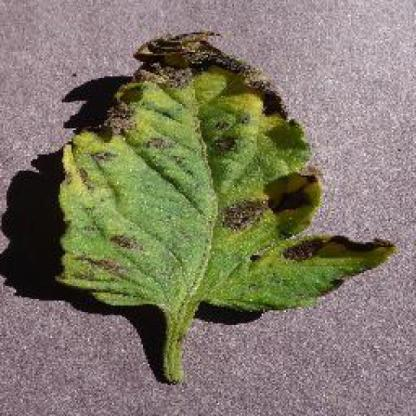Tomato_Blight: (51, 31, 396, 318)
